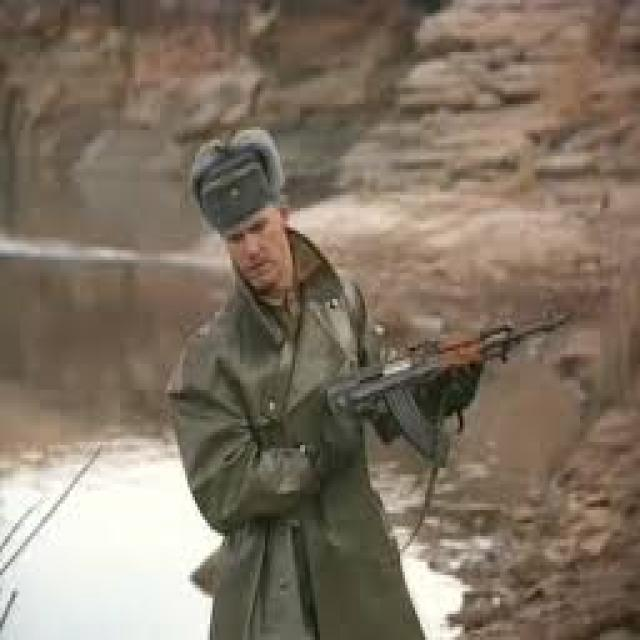weapon: (326, 304, 566, 468)
